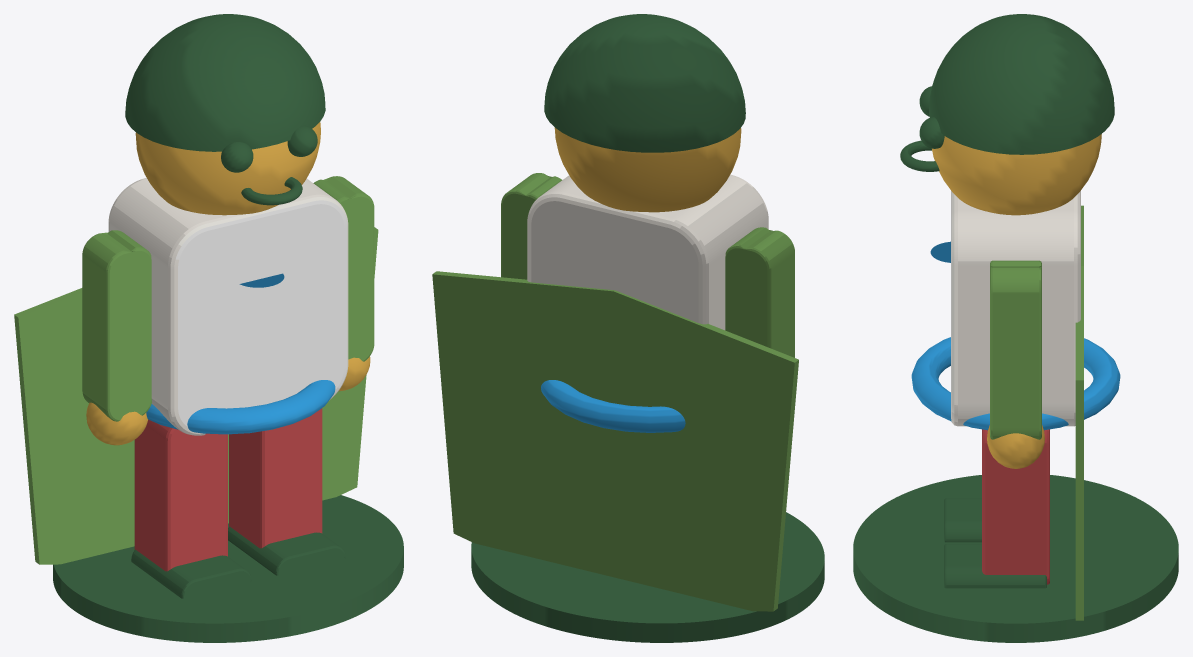
Rendered from 1330_中国古代寓言_陈尧咨.glb.
The picture shows the model from 3 angles, left to right: view 1: azimuth 30°, elevation 25°; view 2: azimuth 150°, elevation 25°; view 3: azimuth 270°, elevation 25°; orthographic projection.
Visible parts, largest first — view 1: card_1330; view 2: card_1330; view 3: card_1330.
Part boxes in pixels (<box>): card_1330: <box>14,14,403,642</box>; card_1330: <box>432,14,824,642</box>; card_1330: <box>853,14,1178,642</box>.
Size of the model in its own units: 0.6739 by 1 by 0.531.
